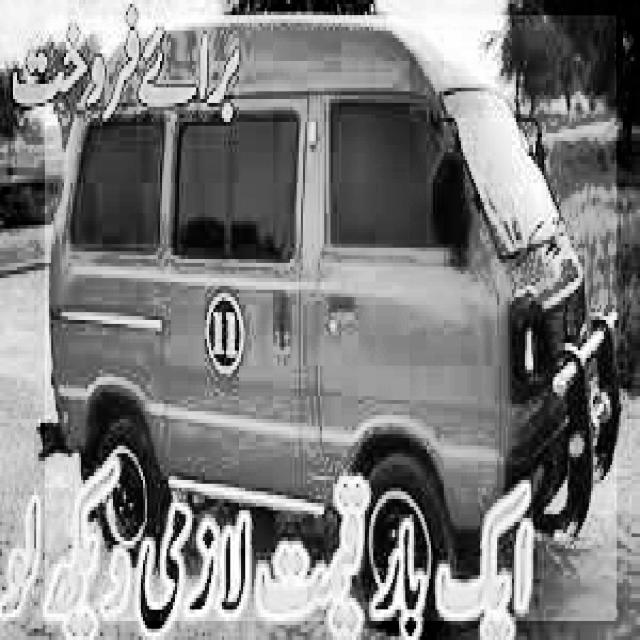LCV: (44, 15, 618, 625)
